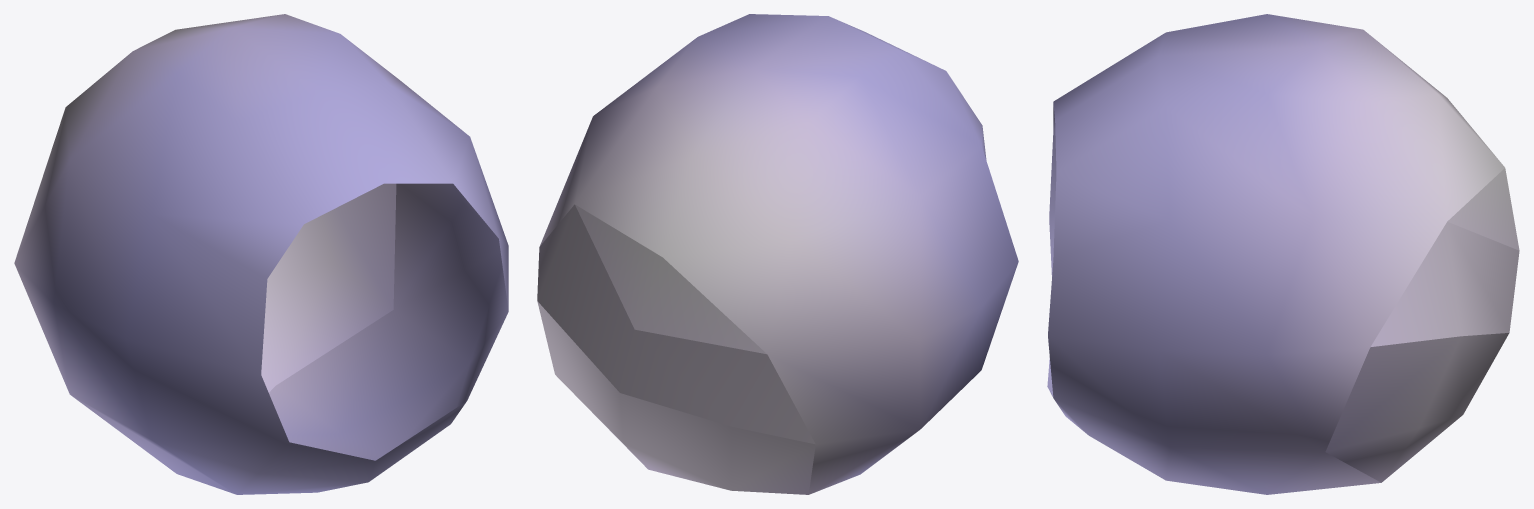
Rendered from HolidaySnowManHead.fbx.
3 renders of one model, left to right at view 1: azimuth 30°, elevation 25°; view 2: azimuth 150°, elevation 25°; view 3: azimuth 270°, elevation 25°, orthographic.
Visible parts, largest first — view 1: HolidaySnowManHead; view 2: HolidaySnowManHead; view 3: HolidaySnowManHead.
Boxes of the visible parts, left/top/right/bottom form: HolidaySnowManHead: left=14, top=14, right=508, bottom=494; HolidaySnowManHead: left=537, top=14, right=1018, bottom=494; HolidaySnowManHead: left=1047, top=14, right=1519, bottom=494.
Size of the model in its own units: 25.46 by 24.6 by 25.34.
